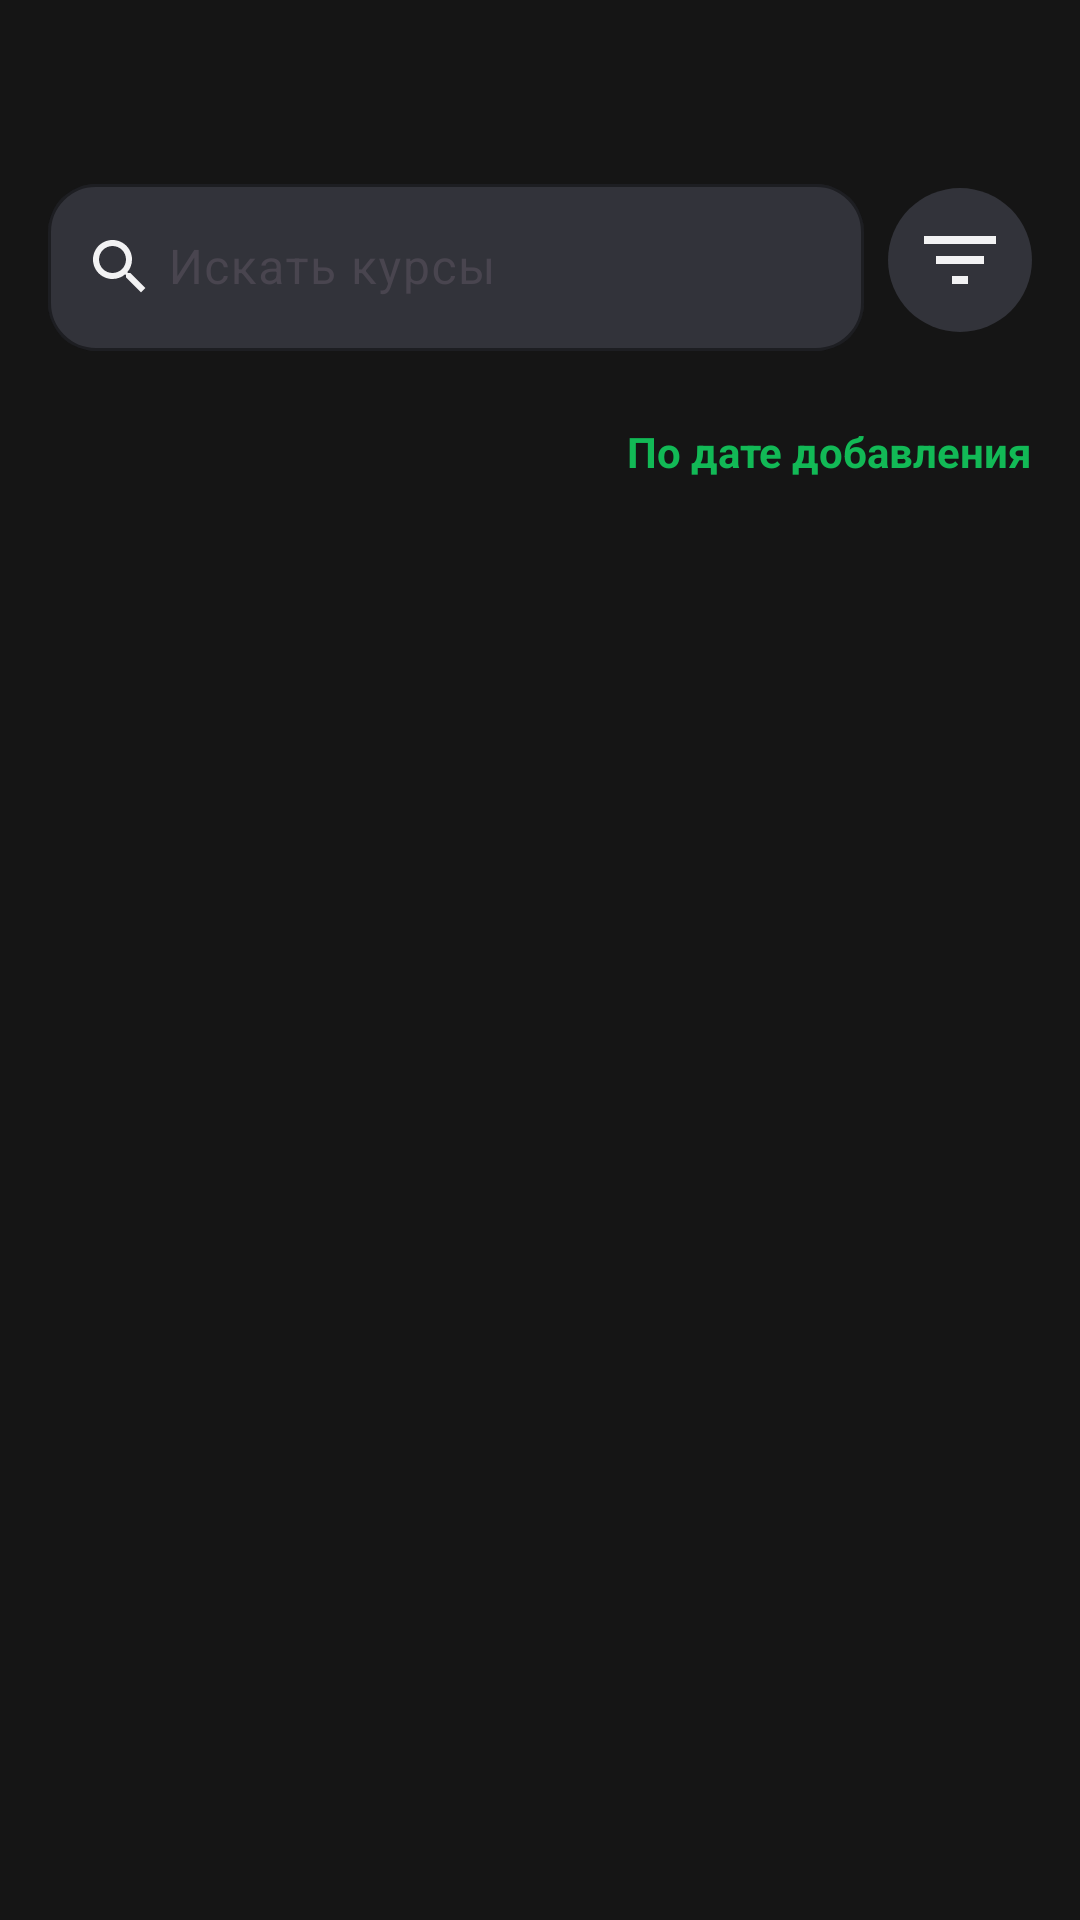

Locate icon controls on the screen. Image size 1080w x 1920h, boxes as bbox=[x1, y1, x2, y2].
filter: bbox=[888, 188, 1032, 332]
